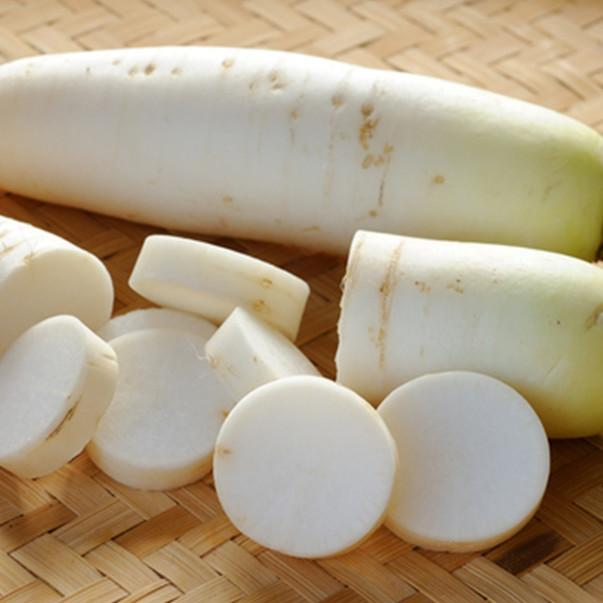radish: (318, 217, 563, 391), (369, 346, 516, 518), (212, 360, 368, 522)
